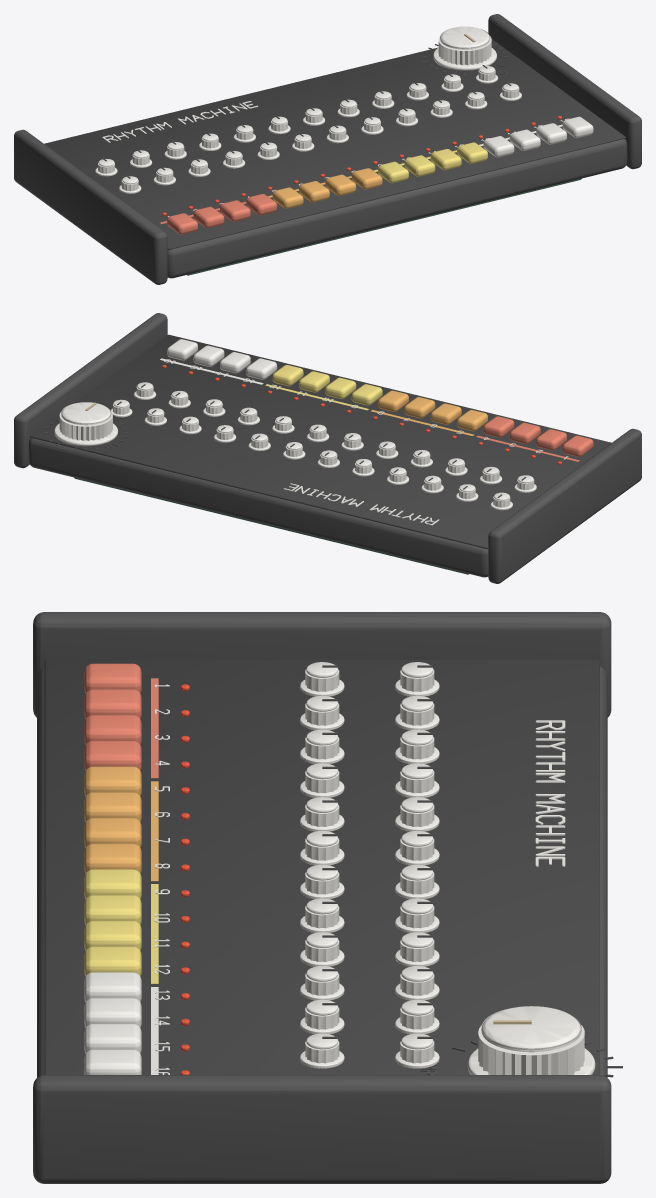
3 renders of one model, top to bottom at view 1: azimuth 30°, elevation 25°; view 2: azimuth 150°, elevation 25°; view 3: azimuth 270°, elevation 25°, orthographic. The views are drawn at different scales.
Visible parts, largest first — view 1: case, keys, knobs, tempo, circuit; view 2: case, keys, knobs, tempo, circuit; view 3: case, knobs, keys, tempo.
Part boxes in pixels (x1,y1,x2,y2): case: (14, 14, 641, 284); keys: (167, 116, 593, 234); knobs: (95, 65, 521, 193); tempo: (421, 26, 507, 78); circuit: (187, 178, 581, 275); case: (14, 313, 641, 583); keys: (167, 339, 593, 456); knobs: (110, 382, 536, 510); tempo: (42, 402, 128, 450); circuit: (74, 477, 468, 574); case: (33, 612, 611, 1183); knobs: (300, 662, 439, 1068); keys: (84, 663, 141, 1074); tempo: (420, 1006, 622, 1077).
Size of the model in its own units: 2.96 by 0.394 by 1.55.
